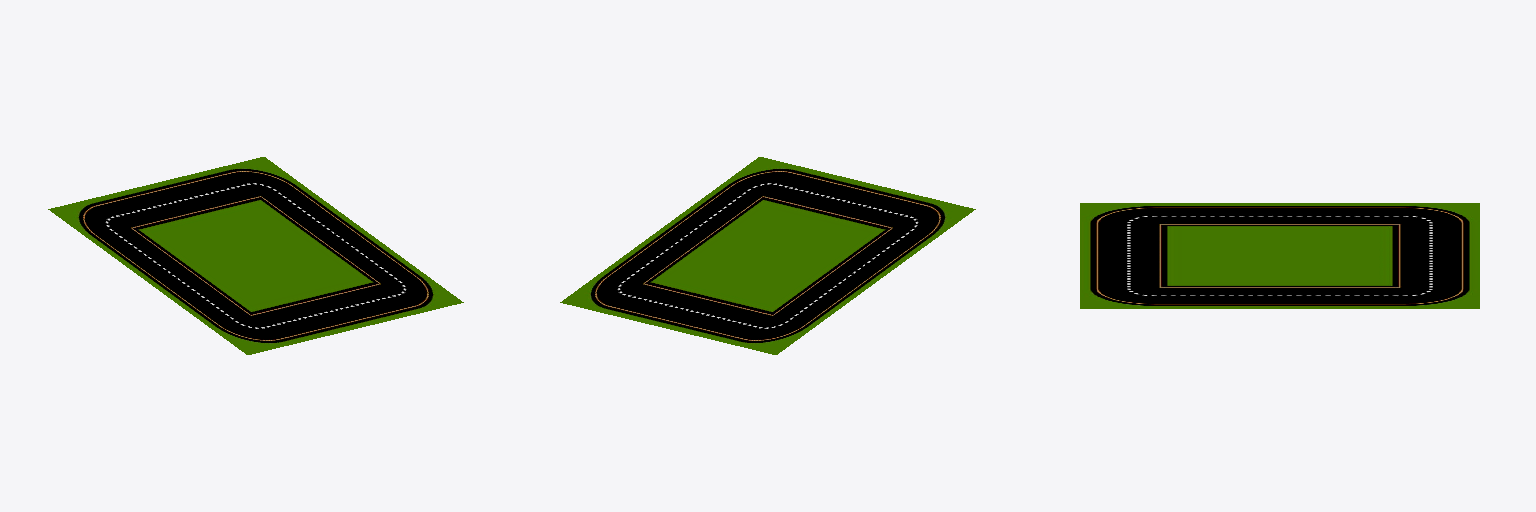
The picture shows the model from 3 angles: view 1: azimuth 30°, elevation 25°; view 2: azimuth 150°, elevation 25°; view 3: azimuth 270°, elevation 25°; orthographic projection.
Parts seen in each view (by area): view 1: Plane001; view 2: Plane001; view 3: Plane001.
Part boxes in pixels (x1,y1,x2,y2): Plane001: (48,157,463,354); Plane001: (560,157,975,354); Plane001: (1080,203,1479,308).
Bounding box in the file's own units: 272 × 0 × 435.
1 materials, 1 textured.